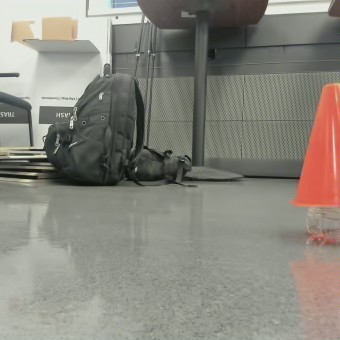Cone: (290, 82, 339, 200)
